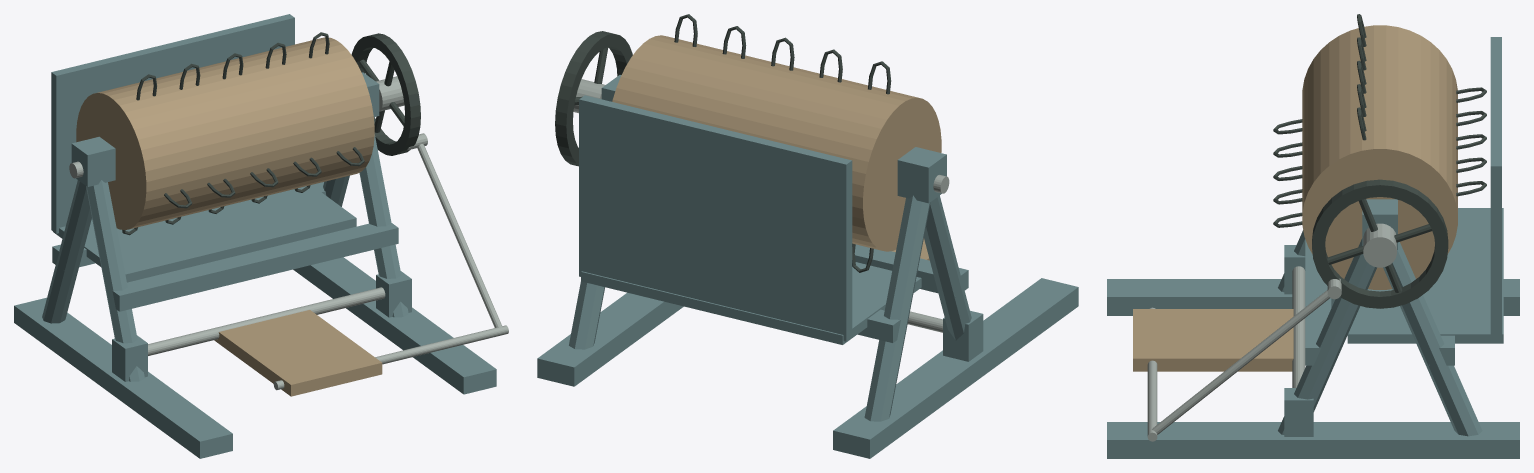
3 views of the same model, side by side, from view 1: azimuth 30°, elevation 25°; view 2: azimuth 150°, elevation 25°; view 3: azimuth 270°, elevation 25° (orthographic). The views are drawn at different scales.
Parts seen in each view (by area): view 1: WholeWideWireLoopDrum, WholeLowUnderDrumSheet, WholeUprightRearSheetBody, WholeLongGroundSkid-1, WholeBroadFrontTreadleBoard, WholeLowFrameCrossTie-1, WholeLongGroundSkid1, WholeSplayedFrameLeg-1_-1, WholeSplayedFrameLeg-1_1, WholeOpenSideFlywheelRim, WholeSplayedFrameLeg1_-1, WholeTreadlePivotShaft (+7 smaller); view 2: WholeUprightRearSheetBody, WholeWideWireLoopDrum, WholeLongGroundSkid-1, WholeSplayedFrameLeg-1_1, WholeLongGroundSkid1, WholeLowUnderDrumSheet, WholeSplayedFrameLeg-1_-1, WholeOpenSideFlywheelRim, WholeRaisedDrumBearing-1, WholeSplayedFrameLeg1_1, WholeLowTreadlePivotStand-1, WholeLowFrameCrossTie-1 (+1 smaller); view 3: WholeWideWireLoopDrum, WholeLongGroundSkid1, WholeBroadFrontTreadleBoard, WholeLowUnderDrumSheet, WholeLongGroundSkid-1, WholeOpenSideFlywheelRim, WholeSplayedFrameLeg1_1, WholeUprightRearSheetBody, WholeSplayedFrameLeg1_-1, WholeFixedTreadleConnectingRod, WholeLowFrameCrossTie-1, WholeTreadlePivotShaft (+5 smaller).
Part boxes in pixels (x1,y1,x2,y2): WholeWideWireLoopDrum: (76,37,374,230); WholeLowUnderDrumSheet: (53,185,356,282); WholeUprightRearSheetBody: (51,14,294,233); WholeLongGroundSkid-1: (14,297,232,458); WholeBroadFrontTreadleBoard: (214,310,382,396); WholeLowFrameCrossTie-1: (112,223,398,311); WholeLongGroundSkid1: (293,257,496,394); WholeSplayedFrameLeg-1_-1: (86,180,144,381); WholeSplayedFrameLeg-1_1: (42,180,91,323); WholeOpenSideFlywheelRim: (351,33,420,155); WholeSplayedFrameLeg1_-1: (359,134,408,317); WholeTreadlePivotShaft: (148,287,385,355); WholeUprightRearSheetBody: (579,95,852,341); WholeWideWireLoopDrum: (612,35,941,251); WholeLongGroundSkid-1: (833,278,1078,458); WholeSplayedFrameLeg-1_1: (864,195,930,421); WholeLongGroundSkid1: (537,292,683,386); WholeLowUnderDrumSheet: (581,262,921,344); WholeSplayedFrameLeg-1_-1: (924,195,971,340); WholeOpenSideFlywheelRim: (555,31,632,166); WholeRaisedDrumBearing-1: (897,147,946,203); WholeSplayedFrameLeg1_1: (569,281,604,349); WholeLowTreadlePivotStand-1: (943,310,983,361); WholeLowFrameCrossTie-1: (854,244,968,297); WholeWideWireLoopDrum: (1302,25,1457,289); WholeLongGroundSkid1: (1107,422,1519,458); WholeBroadFrontTreadleBoard: (1133,309,1293,371); WholeLowUnderDrumSheet: (1347,208,1503,343); WholeLongGroundSkid-1: (1107,279,1519,315); WholeOpenSideFlywheelRim: (1312,179,1448,308); WholeSplayedFrameLeg1_1: (1383,242,1482,436); WholeUprightRearSheetBody: (1490,37,1501,341); WholeSplayedFrameLeg1_-1: (1278,238,1376,434); WholeFixedTreadleConnectingRod: (1152,290,1329,434); WholeLowFrameCrossTie-1: (1305,239,1331,365); WholeTreadlePivotShaft: (1292,266,1305,387).
Bounding box in the file's own units: 1.3 × 1.08 × 1.27.
